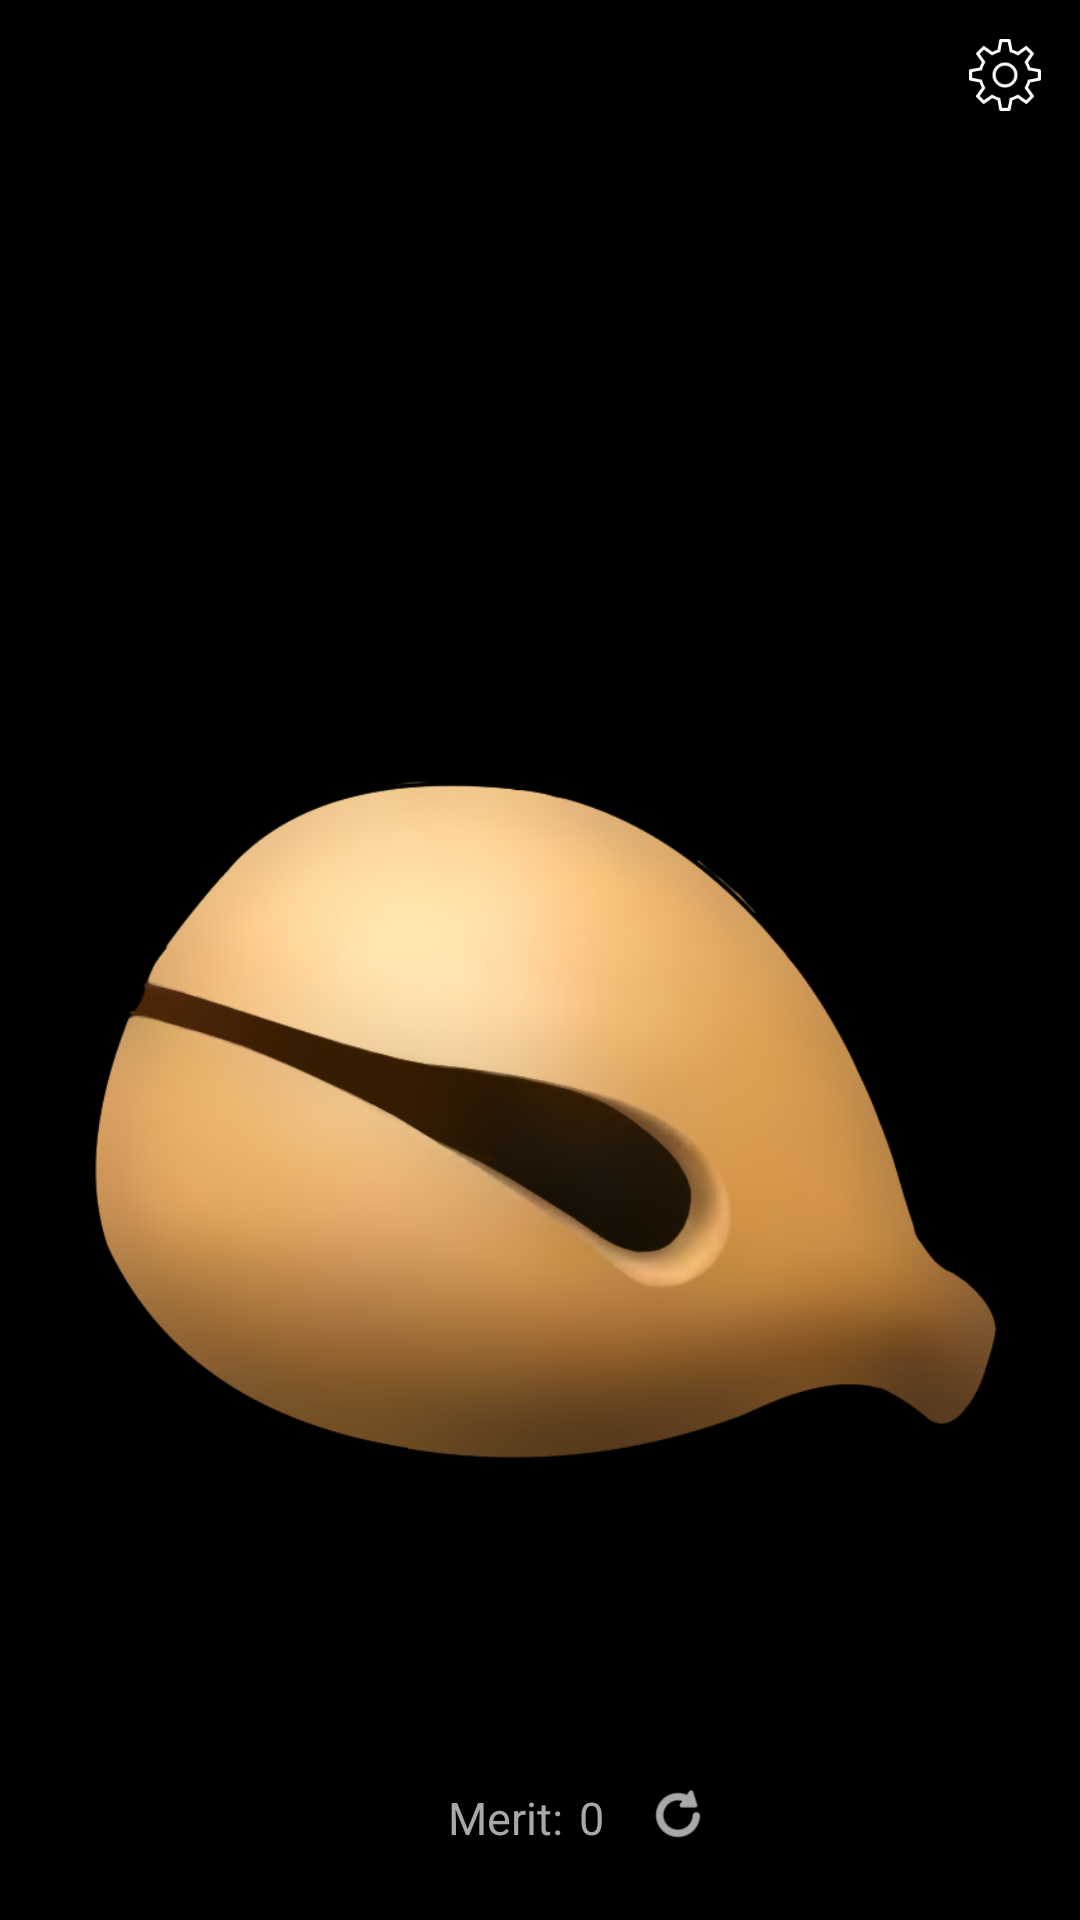

Named icons in this screenshot (1080px x 1920px) and their bounding boxes, (x1, y1, x2, y2):
reset: (655, 1790, 701, 1838)
settings: (969, 39, 1041, 111)
